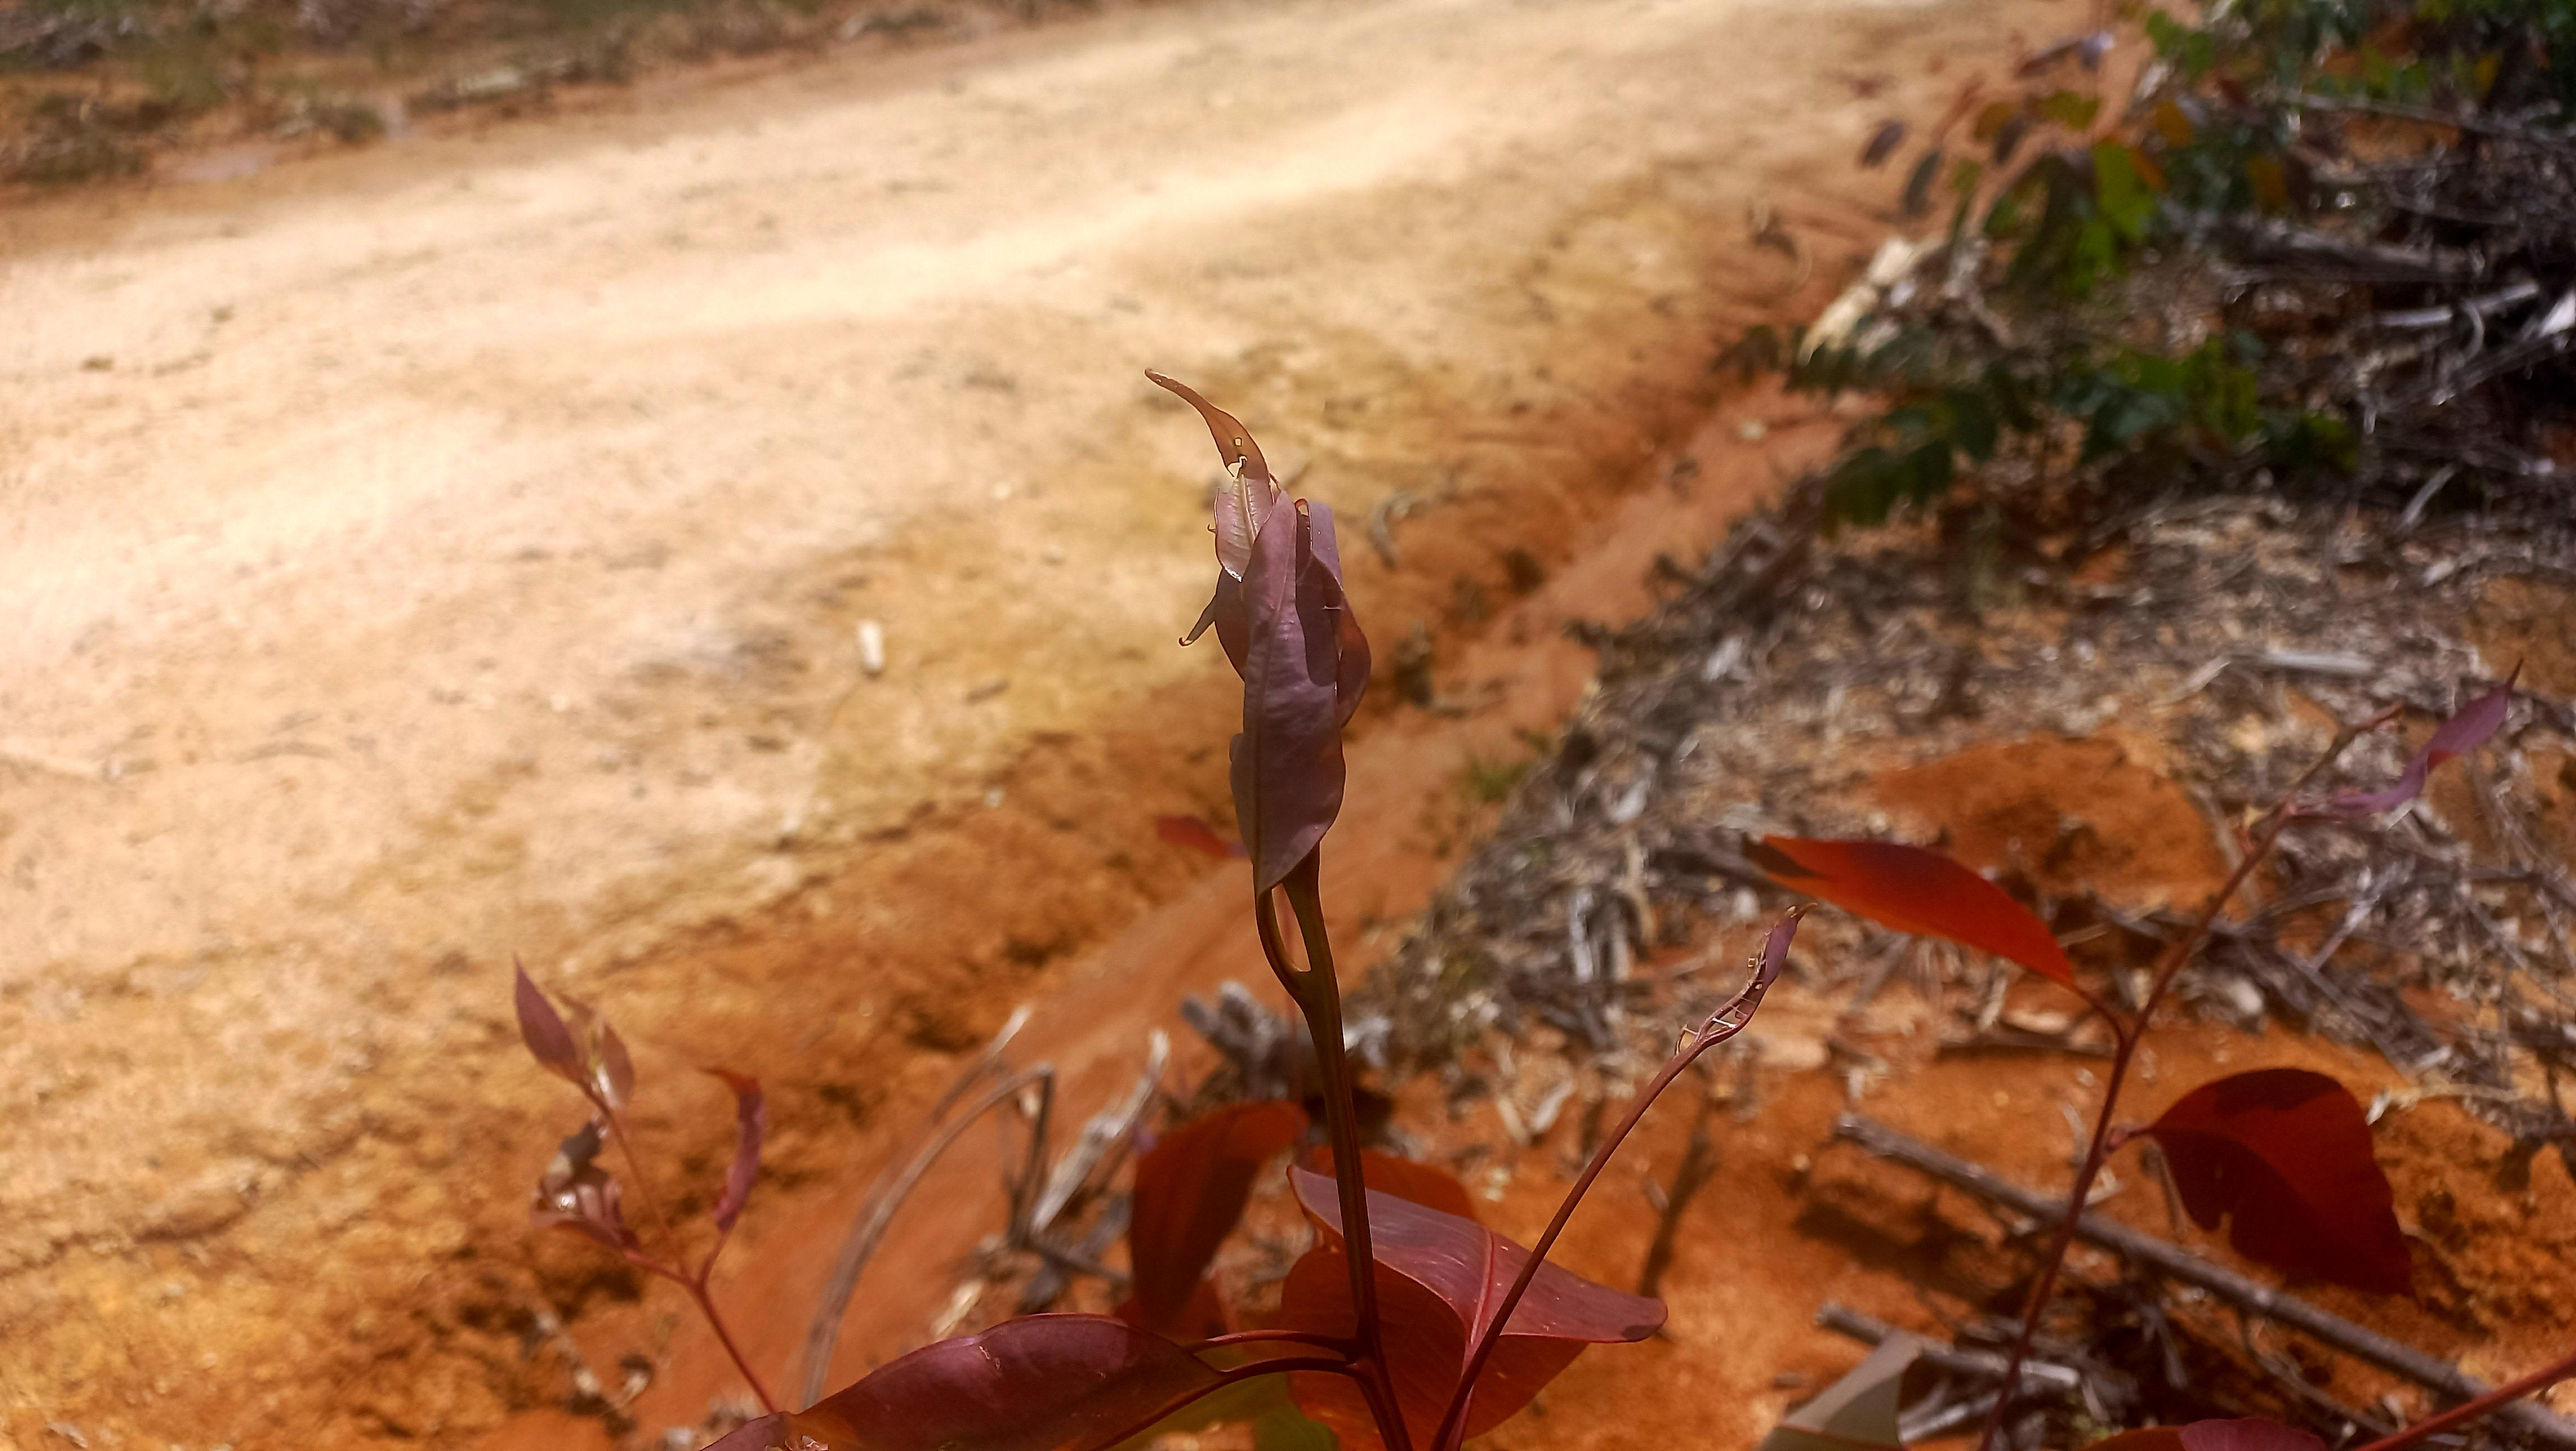Leaf Roller - Leaf: (1150, 382, 1380, 901), (1652, 906, 1819, 1065), (508, 956, 630, 1125), (706, 1060, 770, 1228), (518, 1125, 600, 1217)
